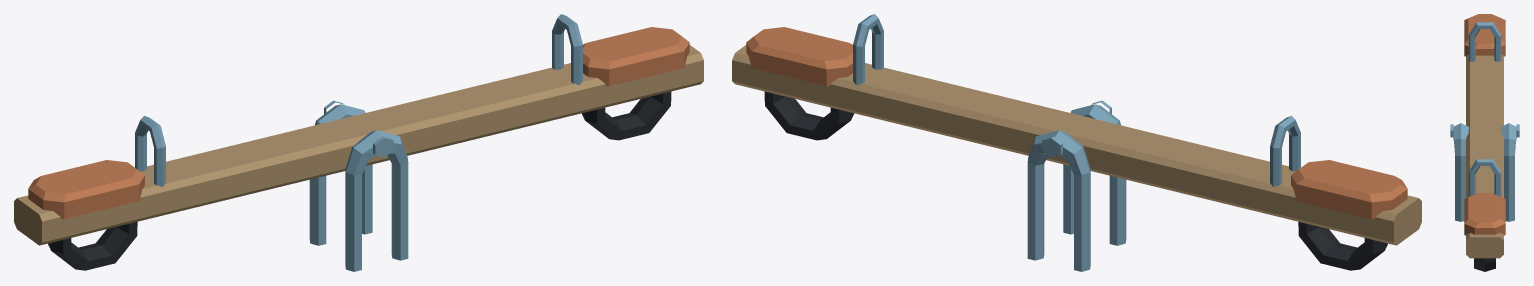
Rendered from teeter-totter-ee9c62.glb.
The picture shows the model from 3 angles, left to right: view 1: azimuth 30°, elevation 25°; view 2: azimuth 150°, elevation 25°; view 3: azimuth 270°, elevation 25°; orthographic projection. The views are drawn at different scales.
Parts seen in each view (by area): view 1: beam-mesh, cradle; view 2: beam-mesh, cradle; view 3: beam-mesh, cradle.
Part boxes in pixels (left/top/right/bottom): beam-mesh: left=14, top=14, right=703, bottom=270; cradle: left=309, top=100, right=408, bottom=271; beam-mesh: left=732, top=14, right=1421, bottom=270; cradle: left=1027, top=100, right=1126, bottom=271; beam-mesh: left=1464, top=14, right=1505, bottom=271; cradle: left=1450, top=123, right=1519, bottom=221.
Bounding box in the file's own units: 3 × 0.778 × 0.4038.
